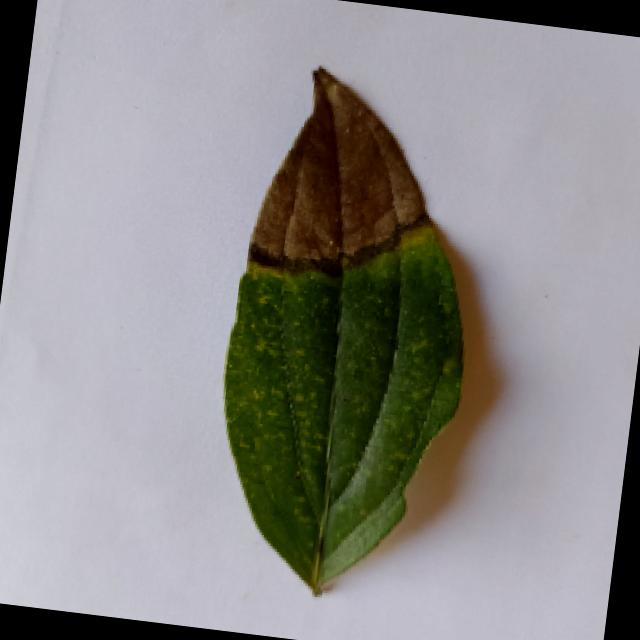footrot: (197, 58, 502, 609)
